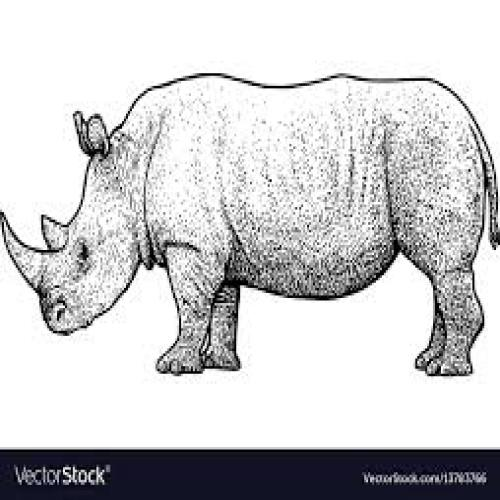rhino-endangered: (2, 66, 500, 378)
